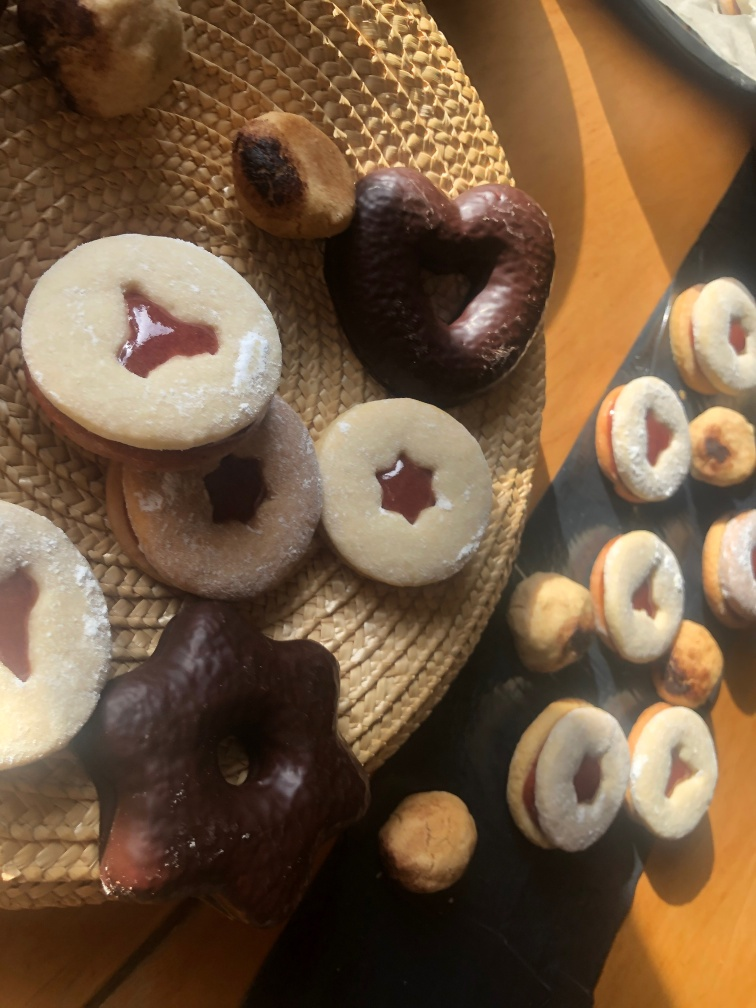christmas shortbread with jam: (19, 226, 283, 448), (105, 384, 328, 594), (317, 393, 499, 588), (3, 492, 111, 771), (504, 695, 621, 859), (624, 700, 719, 844), (594, 376, 691, 517), (586, 529, 685, 661), (663, 275, 755, 412), (699, 504, 756, 629)
heart: (327, 162, 559, 411)
snowball: (27, 1, 190, 127), (227, 106, 355, 241), (382, 783, 485, 907), (506, 573, 595, 675), (647, 612, 728, 717), (692, 405, 756, 485)
star: (74, 600, 359, 906)
